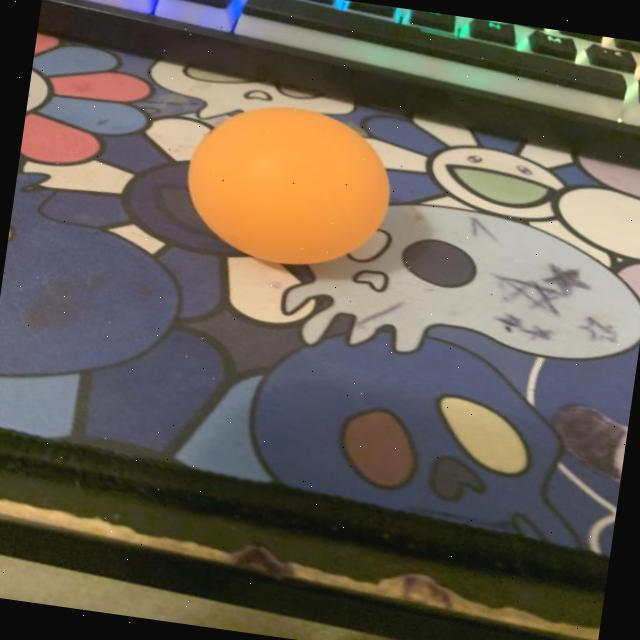ping-pong-ball: (162, 84, 411, 290)
